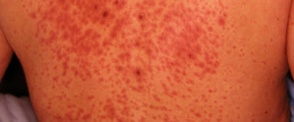SJS-TEN: (0, 0, 292, 122)
